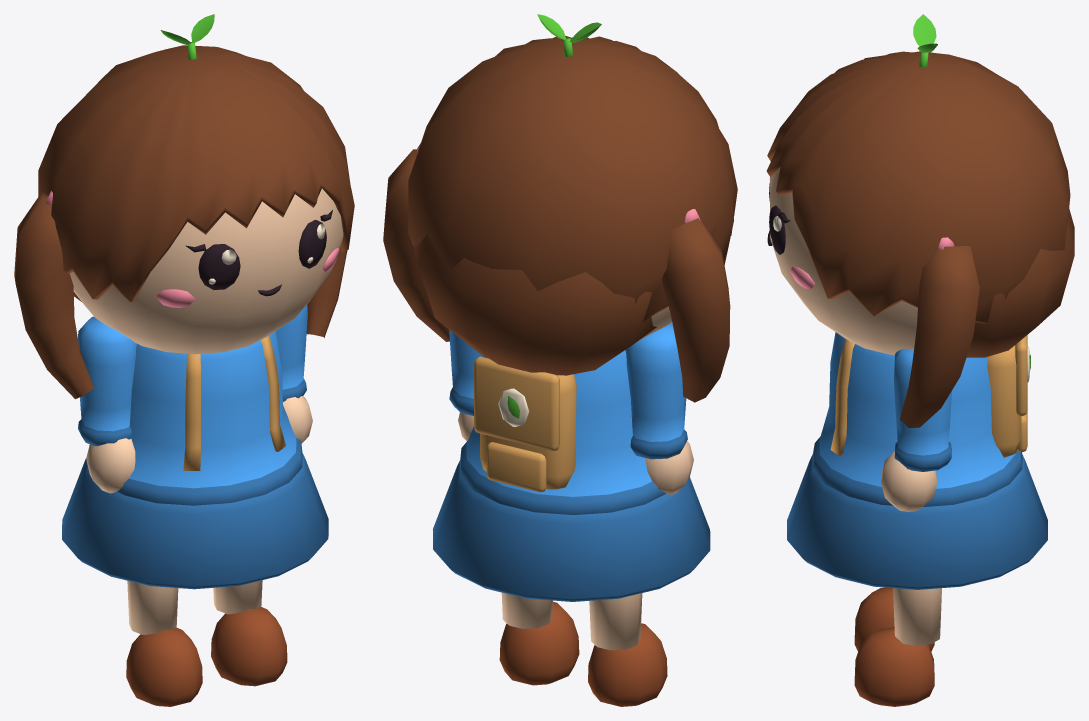
The model's file is hero-woman-teen.glb.
3 renders of one model, left to right at view 1: azimuth 30°, elevation 25°; view 2: azimuth 150°, elevation 25°; view 3: azimuth 270°, elevation 25°, orthographic. The views are drawn at different scales.
Visible parts, largest first — view 1: head, body, arm-left, leg-left, leg-right, arm-right, head-leaf; view 2: head, body, arm-left, leg-left, leg-right, arm-right, head-leaf; view 3: head, body, leg-right, arm-right, leg-left, head-leaf.
Part boxes in pixels (box(x1,y1,x2,y2)): head: box(14, 45, 354, 399); body: box(62, 331, 328, 589); arm-left: box(78, 316, 136, 493); leg-left: box(126, 580, 202, 706); leg-right: box(211, 580, 287, 686); arm-right: box(276, 304, 312, 443); head-leaf: box(160, 14, 214, 59); head: box(383, 35, 737, 402); body: box(433, 350, 710, 601); arm-left: box(625, 322, 693, 494); leg-left: box(588, 593, 667, 706); leg-right: box(499, 592, 579, 685); arm-right: box(449, 329, 482, 440); head-leaf: box(537, 14, 601, 56); head: box(766, 51, 1074, 427); body: box(787, 332, 1047, 589); leg-right: box(854, 588, 941, 706); arm-right: box(881, 349, 951, 511); leg-left: box(854, 587, 934, 651); head-leaf: box(913, 14, 937, 67).
Bounding box in the file's own units: 1.33 × 2.51 × 1.08.
